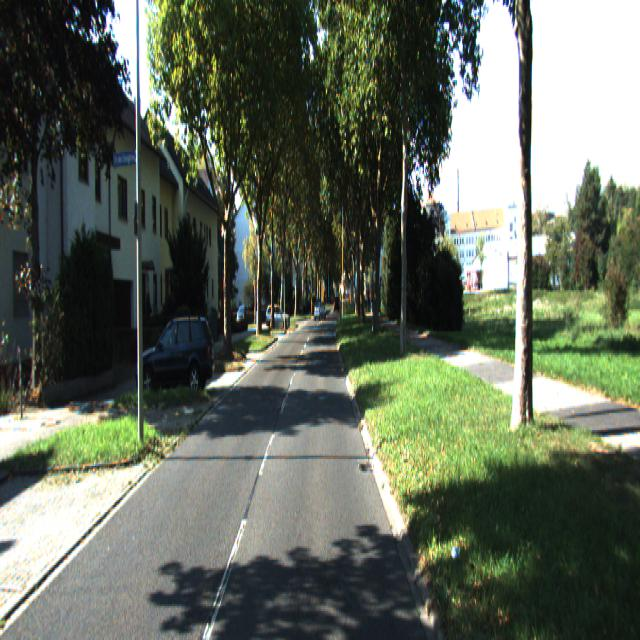Car: (134, 316, 216, 404), (264, 306, 290, 332)
